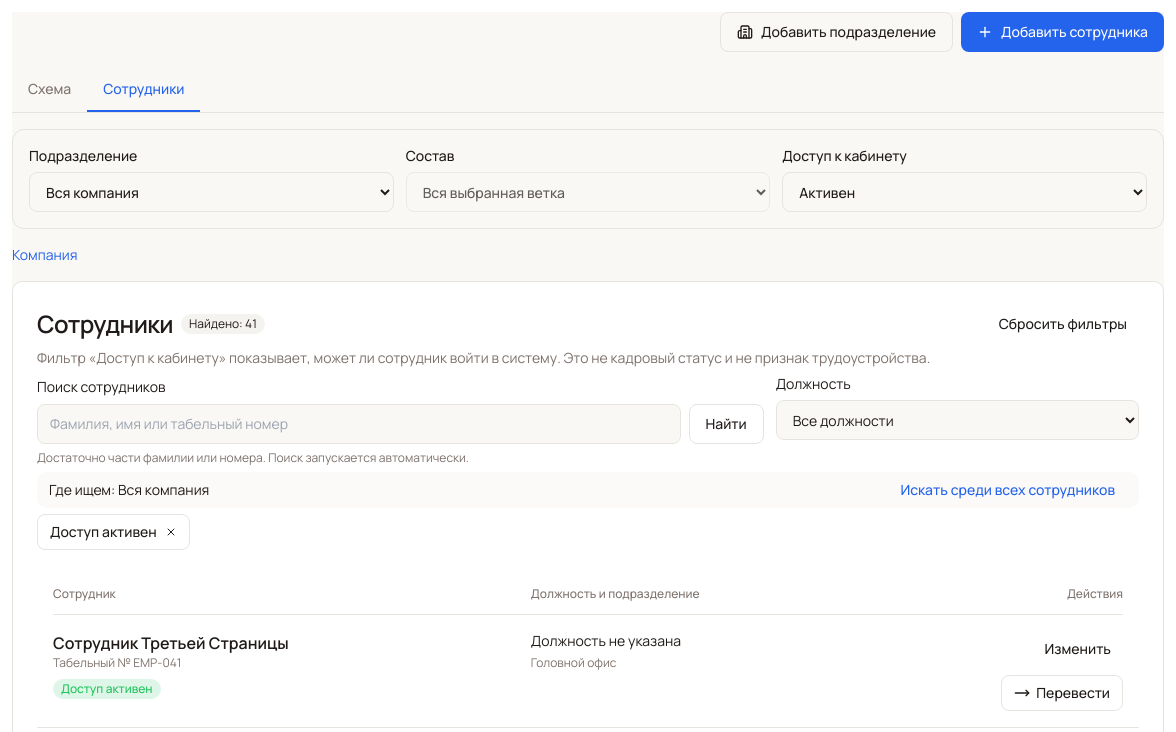
StaffWorkspace employee search › debounces a lowercase surname fragment into a fresh server query from page one
Expected: the text "Сотрудник Третьей Страницы" is shown, 53,632 -> 289,654
In the search field labelled "Поиск сотрудников": (359, 424) 37,404 -> 680,444, type "танаб"
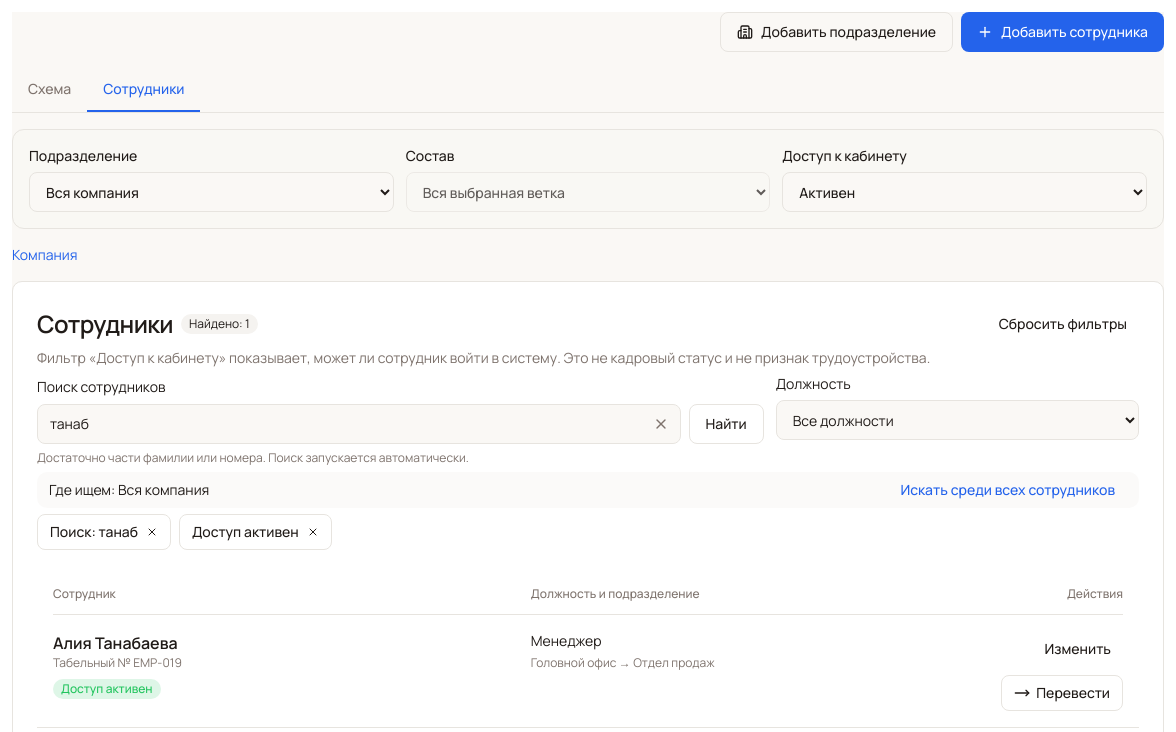
Expected: the text "Алия Танабаева" is shown, 53,632 -> 178,654
Expected: the text "Сотрудник Третьей Страницы" is gone
